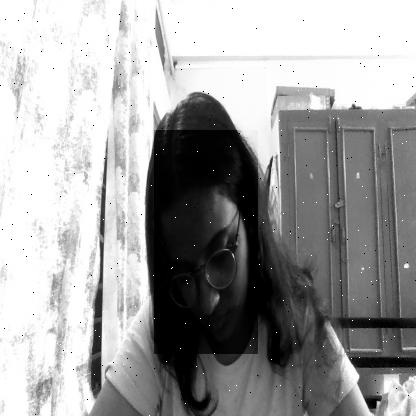Distracted: (154, 130, 258, 354)
